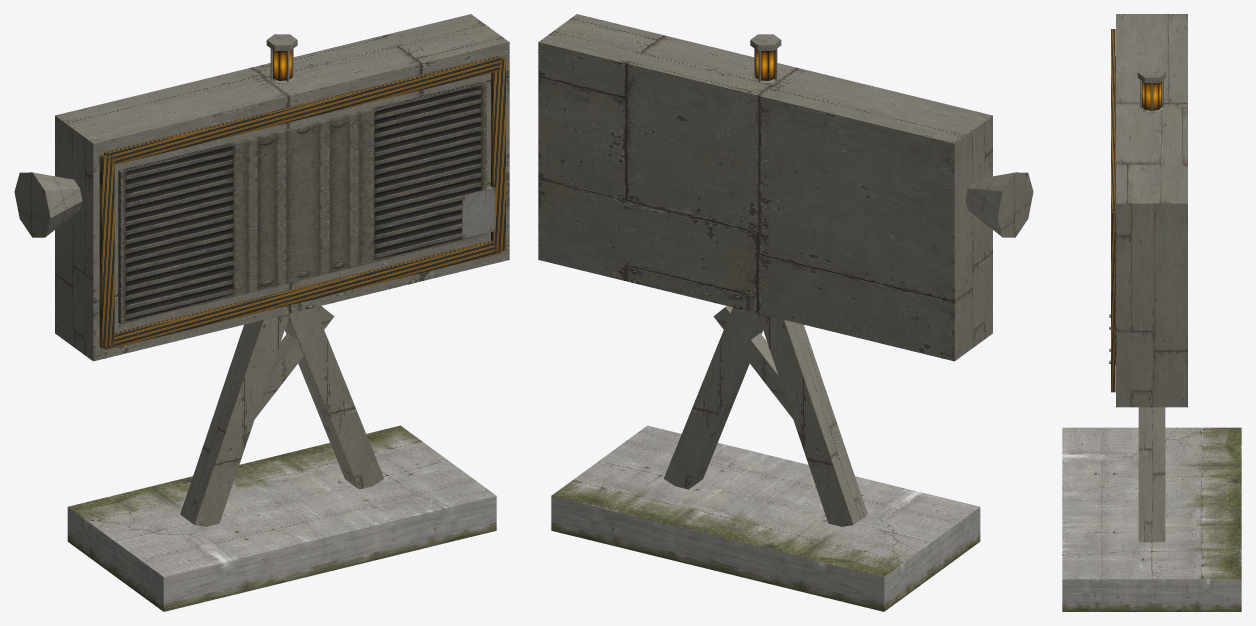
The model's file is countdown-board.glb.
The picture shows the model from 3 angles, left to right: view 1: azimuth 30°, elevation 25°; view 2: azimuth 150°, elevation 25°; view 3: azimuth 270°, elevation 25°; orthographic projection. The views are drawn at different scales.
Visible parts, largest first — view 1: countdown-board_metal, countdown-board_concrete, countdown-board_signage; view 2: countdown-board_metal, countdown-board_concrete; view 3: countdown-board_metal, countdown-board_concrete, countdown-board_signage, countdown-board_emissive.
Boxes of the visible parts, x1,y1,x2,y2 form: countdown-board_metal: (14, 14, 509, 526); countdown-board_concrete: (67, 425, 496, 611); countdown-board_signage: (99, 56, 505, 349); countdown-board_metal: (538, 14, 1033, 526); countdown-board_concrete: (551, 425, 980, 611); countdown-board_metal: (1109, 14, 1187, 542); countdown-board_concrete: (1062, 427, 1241, 611); countdown-board_signage: (1111, 29, 1115, 392); countdown-board_emissive: (1142, 81, 1161, 110).
Size of the model in its own units: 11 by 11.39 by 4.
4 materials, 4 textured.
